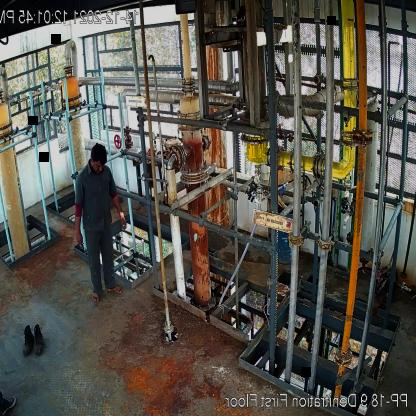no_shoes: (107, 284, 124, 294), (90, 291, 102, 304)
shoes: (30, 323, 46, 356), (21, 325, 33, 355)
